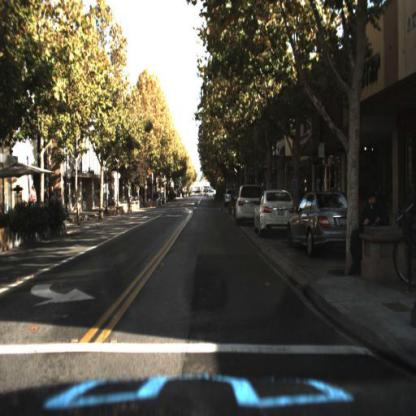car: (285, 188, 349, 257), (253, 189, 299, 229), (231, 184, 259, 228)
pedestrian: (50, 186, 58, 217), (31, 186, 38, 211)
